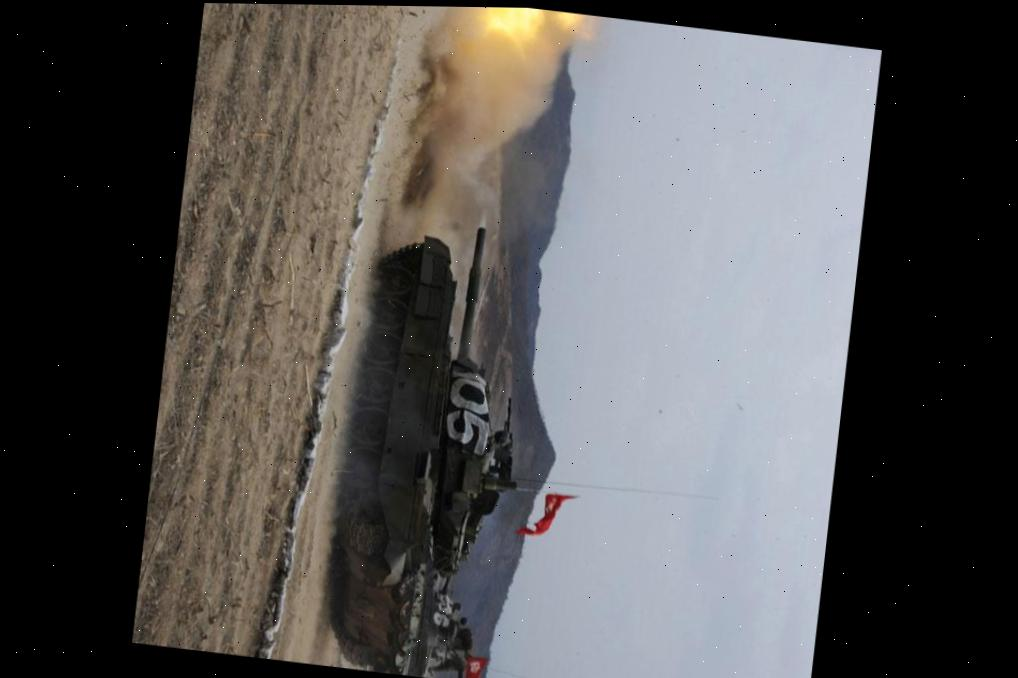tank: (316, 201, 545, 678), (363, 559, 485, 678)
